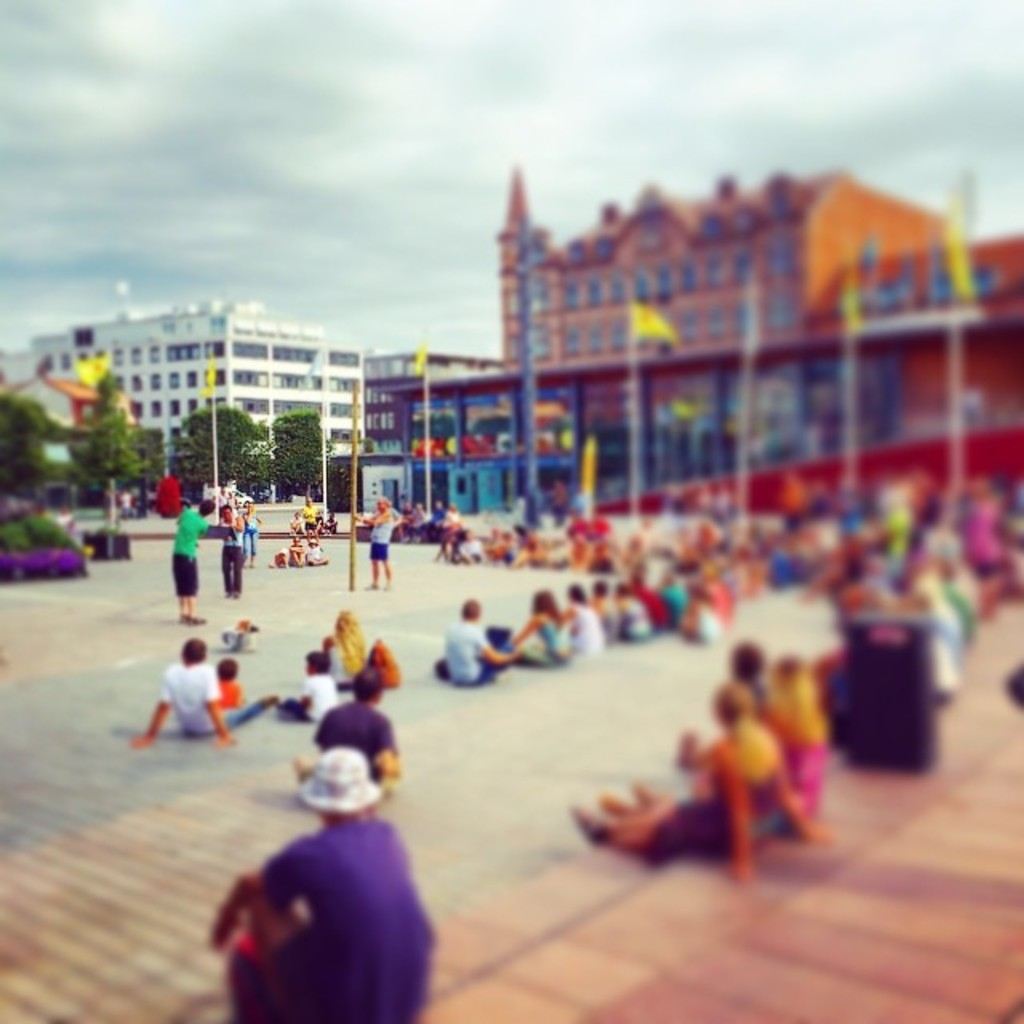Person: (57, 467, 1024, 1024)
